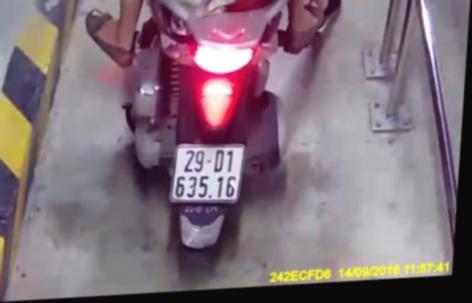License_Plate: (167, 136, 248, 210)
